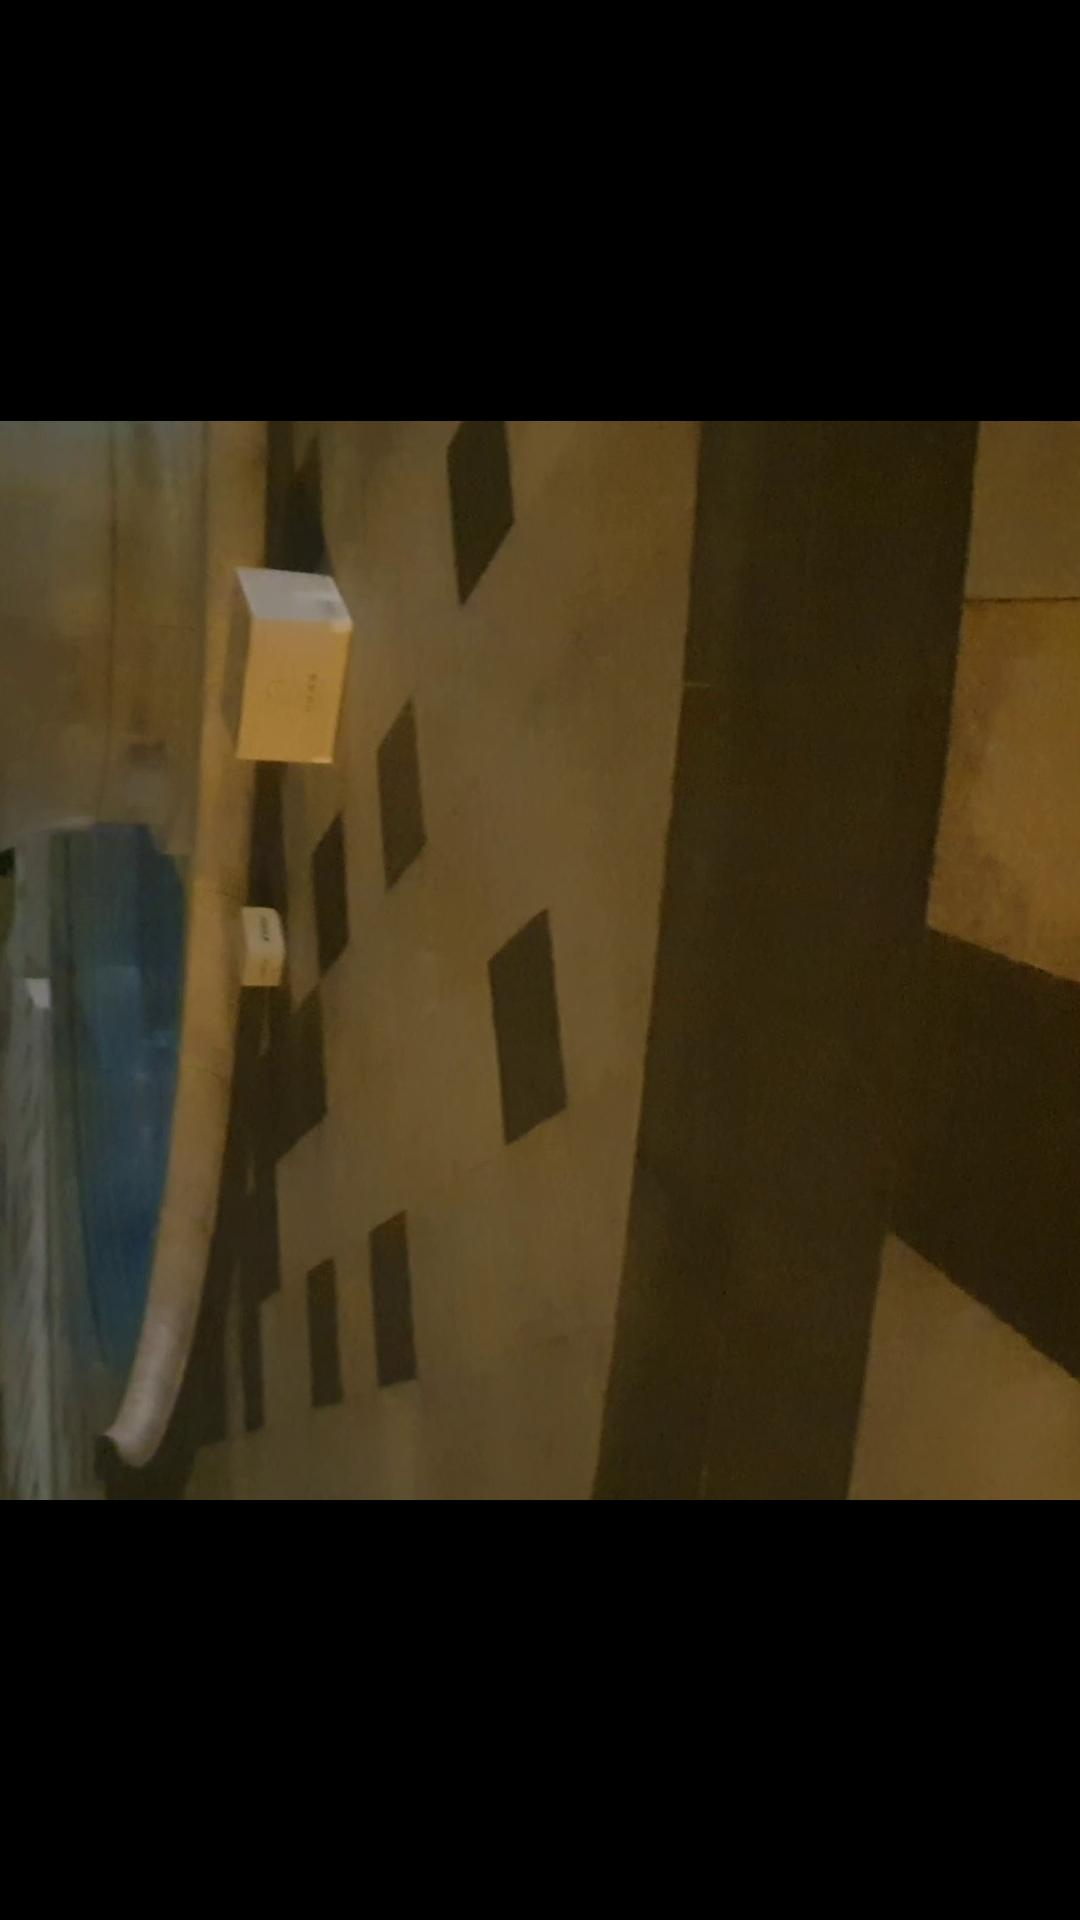Box: (218, 568, 349, 757), (228, 897, 290, 994)
